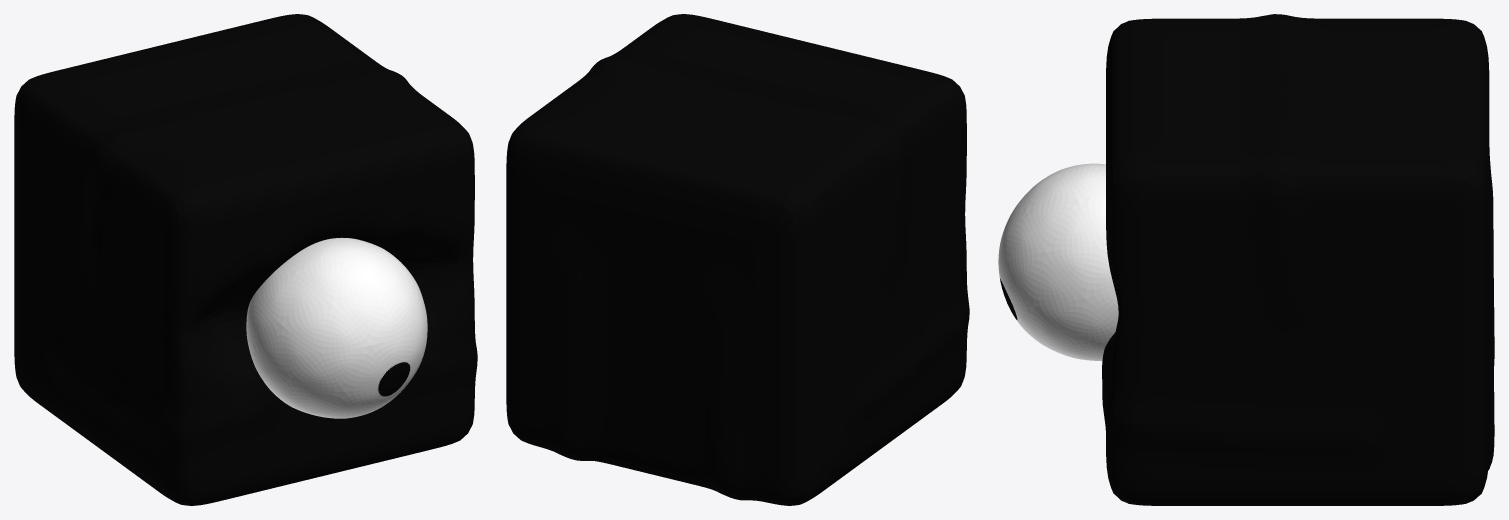
Rendered from dox.fbx.
3 renders of one model, left to right at view 1: azimuth 30°, elevation 25°; view 2: azimuth 150°, elevation 25°; view 3: azimuth 270°, elevation 25°, orthographic. The views are drawn at different scales.
Parts seen in each view (by area): view 1: Cube.001, Икосфера; view 2: Cube.001; view 3: Cube.001, Икосфера.
Part boxes in pixels (x1=…): Cube.001: x1=14, y1=14, x2=477, y2=505; Икосфера: x1=246, y1=237, x2=427, y2=418; Cube.001: x1=506, y1=14, x2=969, y2=505; Cube.001: x1=1102, y1=14, x2=1494, y2=505; Икосфера: x1=998, y1=163, x2=1118, y2=360.
Bounding box in the file's own units: 205 × 204 × 259.
